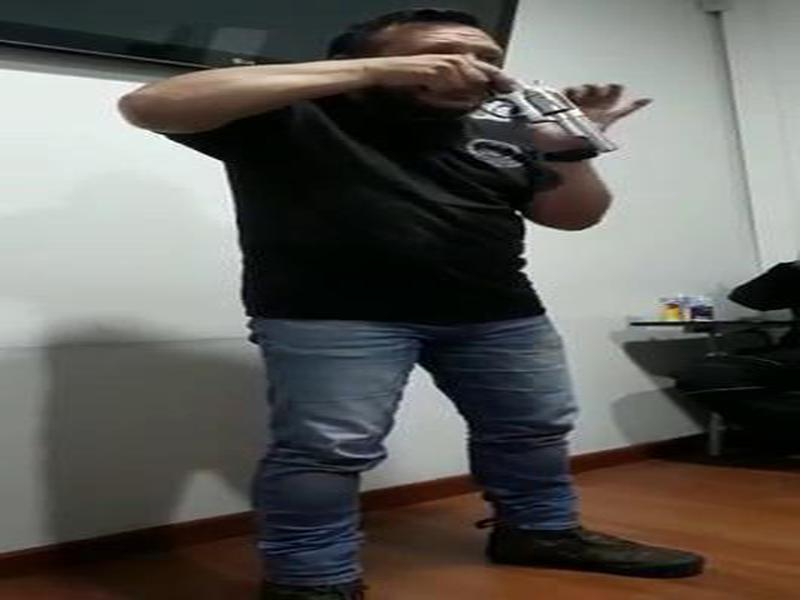Revolver: (448, 50, 635, 171)
